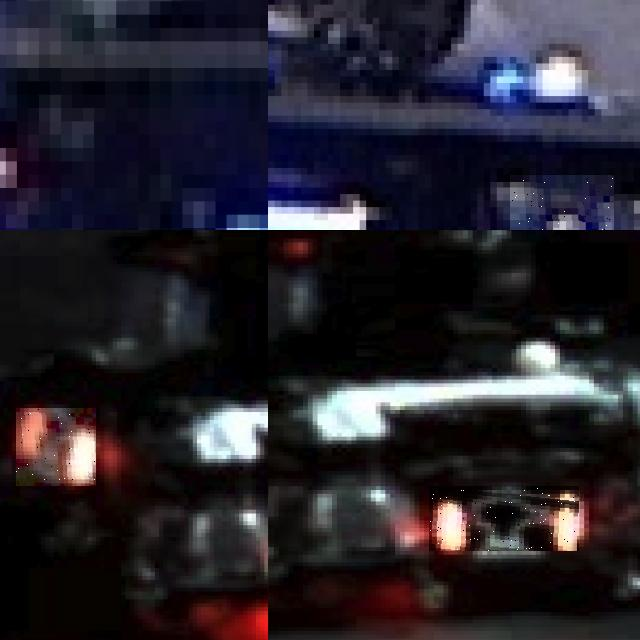B3: (509, 174, 614, 230)
Rs: (429, 486, 579, 551), (16, 408, 96, 486)
